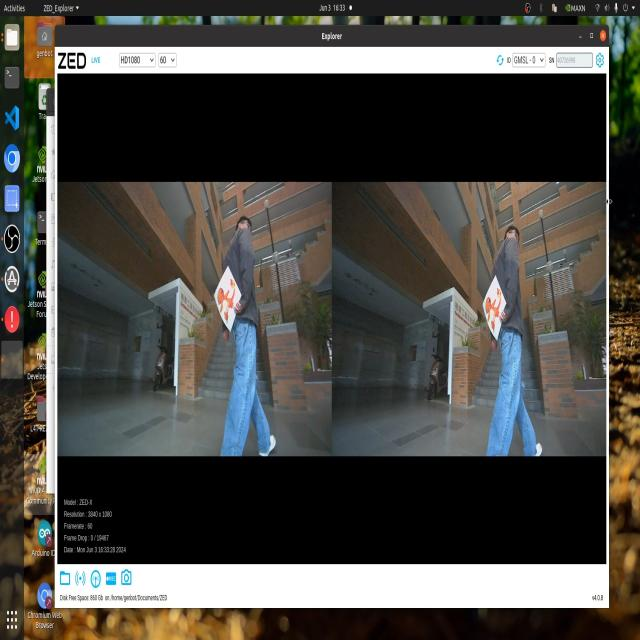red: (485, 288, 507, 332), (221, 281, 235, 319)
